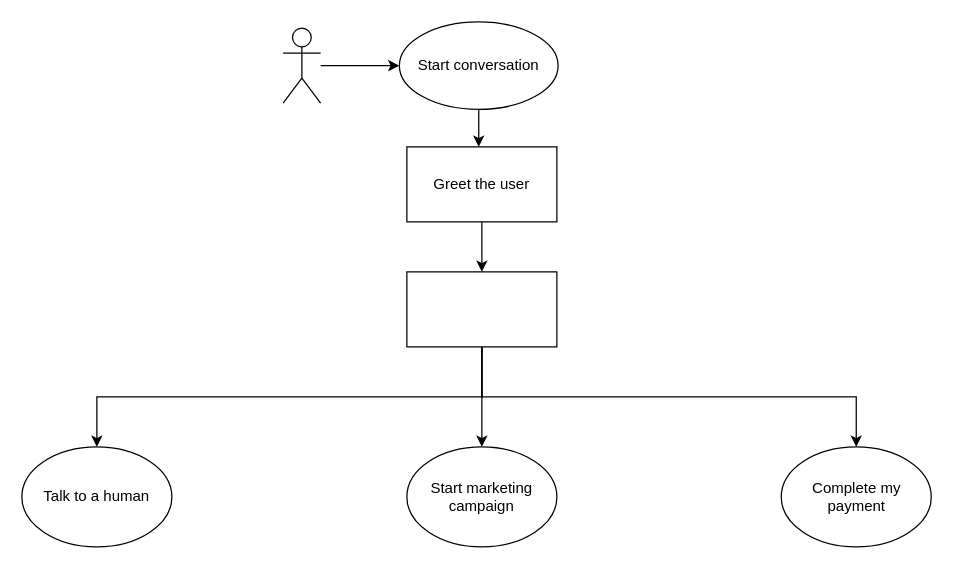
The diagram is 954 pixels wide and 569 high, and some of its shapes have lost their labels. Here are the shapes that lost their labels. From the top down, the centre of each, then its label:
At (x=301, y=65): "Client".
At (x=481, y=309): "Show buttons".
